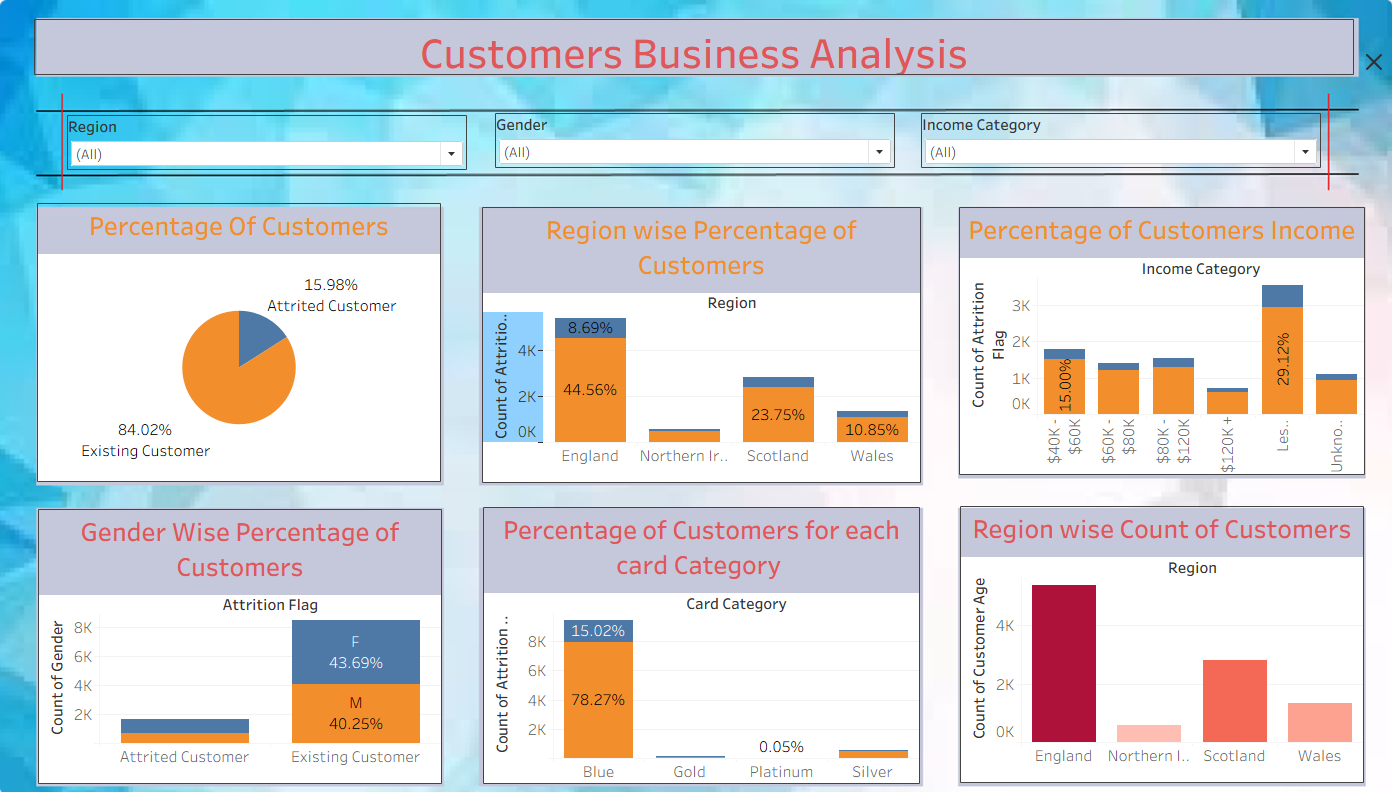

The page's visual inventory and layout, read from the dashboard file:
{"tool":"tableau","page":{"name":"Dashboard 1","canvas":[1000,1000],"units":"permille","ordinal":0},"visuals":[{"type":"image","param":"Image/Untitled (1).png","box":[5.6,9.4,988.7,981.2]},{"type":"worksheet","title":"a","mark":"Automatic","box":[33.1,37.6,929.6,65.7]},{"type":"dashboard-object","box":[968.3,71.4,16.9,34.3]},{"type":"filter","title":"TASK 2","param":"[federated.1nzn12d0l77l0a1bvh7k20fsn3wp].[none:Gender:nk]","box":[357.8,147.9,281.7,64.5]},{"type":"filter","title":"TASK 5","param":"[federated.1nzn12d0l77l0a1bvh7k20fsn3wp].[none:Income_Category:nk]","box":[657.8,147.9,281.7,64.5]},{"type":"filter","title":"TASK3","param":"[federated.1nzn12d0l77l0a1bvh7k20fsn3wp].[none:Region:nk]","box":[56.3,150.2,281.7,64.5]},{"type":"worksheet","title":"TASK 1","mark":"Pie","box":[35.2,253.5,284.5,327.5]},{"type":"worksheet","title":"TASK3","mark":"Automatic","rows":["Attrition_Flag"],"cols":["Region"],"box":[348.6,258.2,309.2,323.9]},{"type":"worksheet","title":"TASK 5","mark":"Automatic","rows":["Attrition_Flag"],"cols":["Income_Category"],"box":[684.5,258.2,285.9,314.6]},{"type":"worksheet","title":"TASK 6","mark":"Automatic","rows":["Customer_Age"],"cols":["Region"],"box":[685.2,609.1,284.5,325.1]},{"type":"worksheet","title":"TASK 4","mark":"Automatic","rows":["Attrition_Flag"],"cols":["Card_Category"],"box":[349.3,610.3,307.8,325.1]},{"type":"worksheet","title":"TASK 2","mark":"Automatic","rows":["Gender"],"cols":["Attrition_Flag"],"box":[35.9,612.7,284.5,322.8]}]}

Visuals, with their boxes on the dashboard's canvas, which has no fixed pixel size, in thousandths of its width and height (x1, y1, x2, y2). These are canvas units, not pixel positions in the 1392x792 screenshot, which may show the page scaled, cropped or inside an application window:
image: pyautogui.locateOnScreen(6, 9, 994, 991)
"a" worksheet: pyautogui.locateOnScreen(33, 38, 963, 103)
dashboard-object: pyautogui.locateOnScreen(968, 71, 985, 106)
"TASK 2" filter: pyautogui.locateOnScreen(358, 148, 640, 212)
"TASK 5" filter: pyautogui.locateOnScreen(658, 148, 940, 212)
"TASK3" filter: pyautogui.locateOnScreen(56, 150, 338, 215)
"TASK 1" worksheet (Pie marks): pyautogui.locateOnScreen(35, 254, 320, 581)
"TASK3" worksheet: pyautogui.locateOnScreen(349, 258, 658, 582)
"TASK 5" worksheet: pyautogui.locateOnScreen(684, 258, 970, 573)
"TASK 6" worksheet: pyautogui.locateOnScreen(685, 609, 970, 934)
"TASK 4" worksheet: pyautogui.locateOnScreen(349, 610, 657, 935)
"TASK 2" worksheet: pyautogui.locateOnScreen(36, 613, 320, 936)
